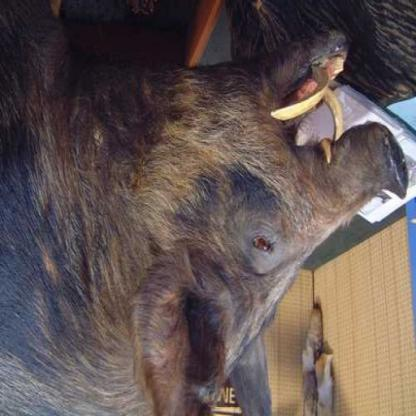boar: (0, 1, 410, 403)
